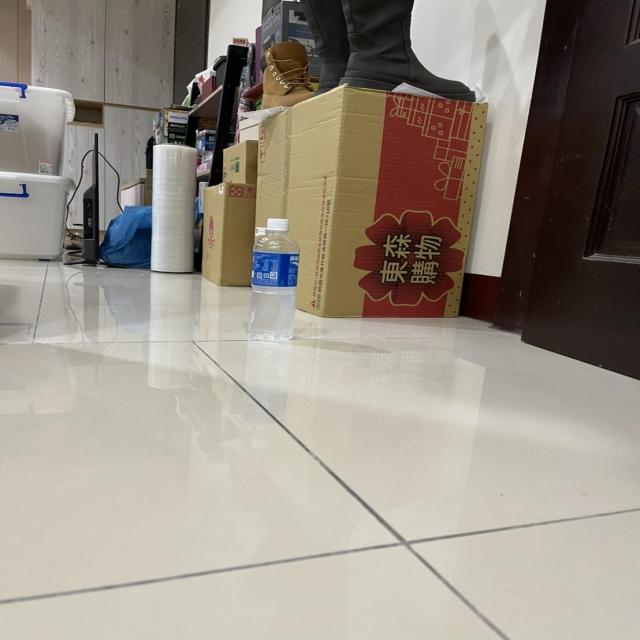bottle: (240, 211, 308, 350)
